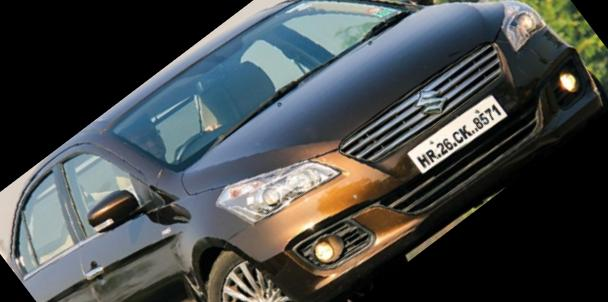plate: (388, 73, 526, 198)
